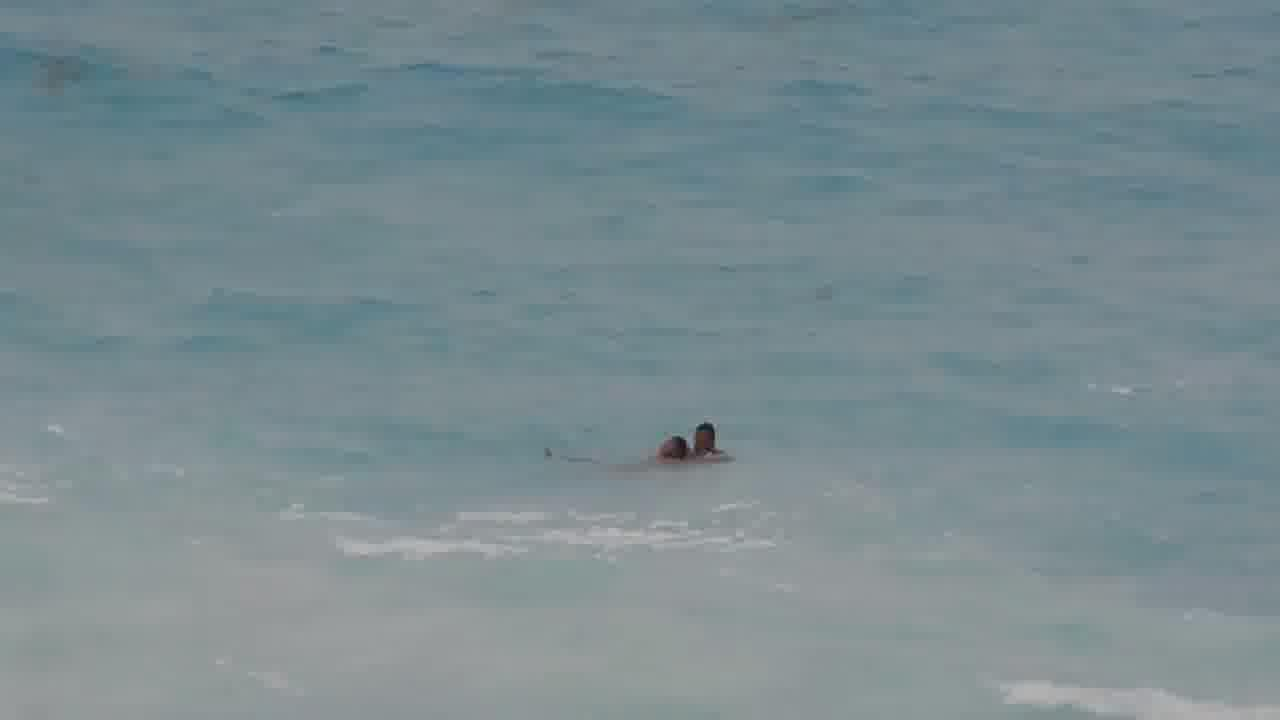swimmer: (691, 413, 724, 461), (648, 426, 684, 468)
